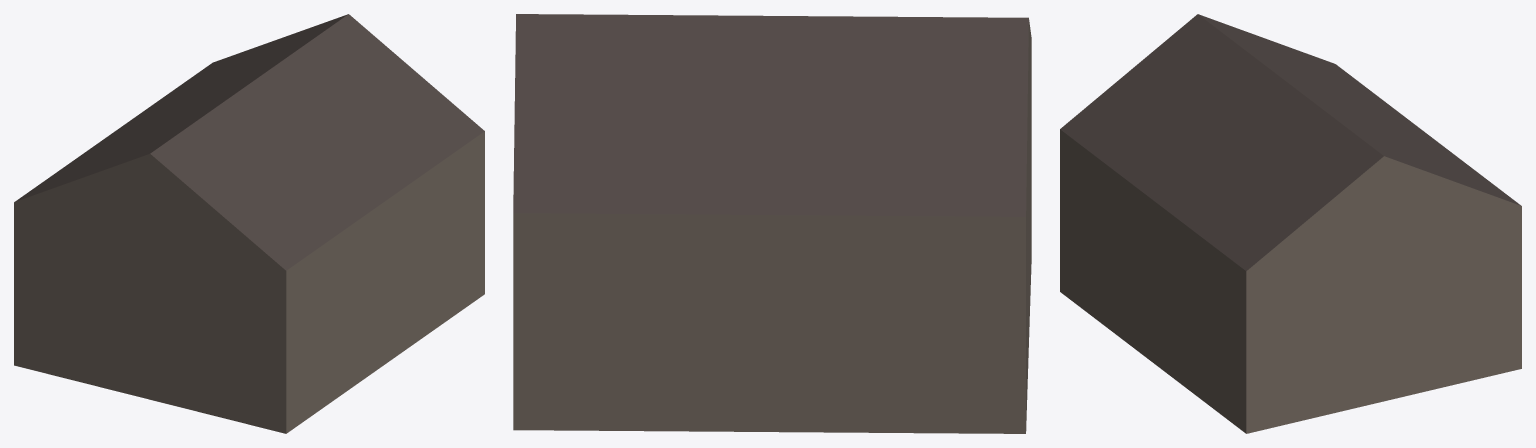
3 renders of one model, left to right at view 1: azimuth 30°, elevation 25°; view 2: azimuth 150°, elevation 25°; view 3: azimuth 270°, elevation 25°, orthographic. The views are drawn at different scales.
Visible parts, largest first — view 1: HP-w859088476; view 2: HP-w859088476; view 3: HP-w859088476.
Part boxes in pixels (x1,y1,x2,y2): HP-w859088476: (14,14,484,433); HP-w859088476: (513,14,1031,433); HP-w859088476: (1060,14,1521,433).
Size of the model in its own units: 16.4 by 9.05 by 15.44.
